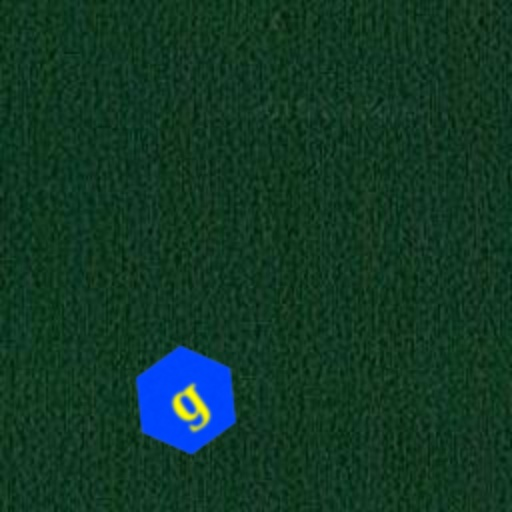hexagon: (108, 322, 264, 478)
